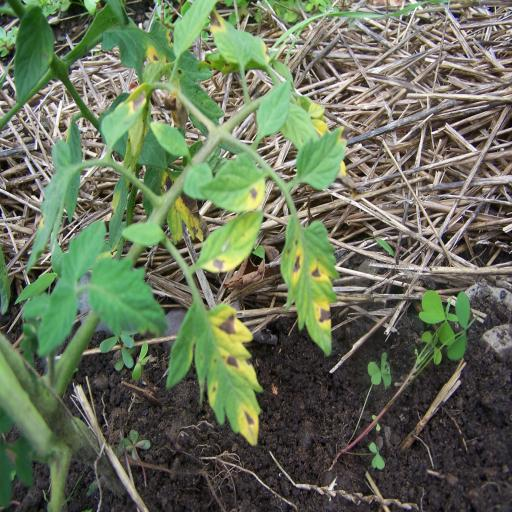Early Blight: (166, 300, 263, 448), (280, 212, 340, 354), (191, 209, 264, 274), (197, 154, 279, 210)
Healthy: (38, 220, 167, 360)
